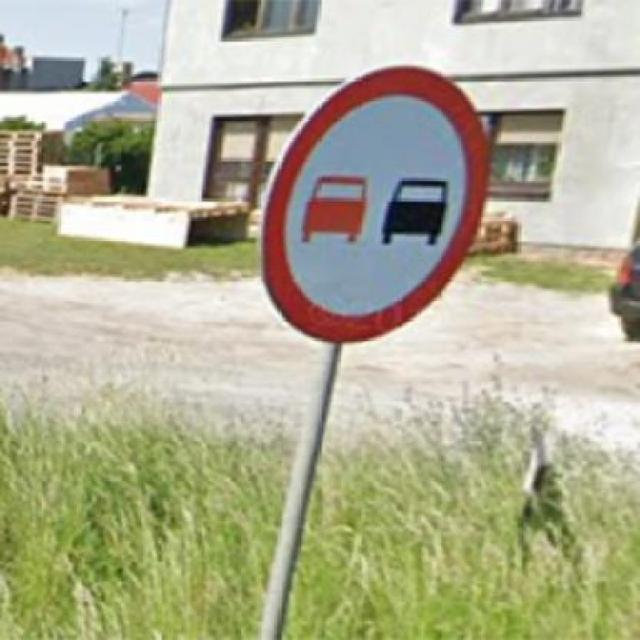Zakaz wyprzedzania: (257, 62, 492, 346)
